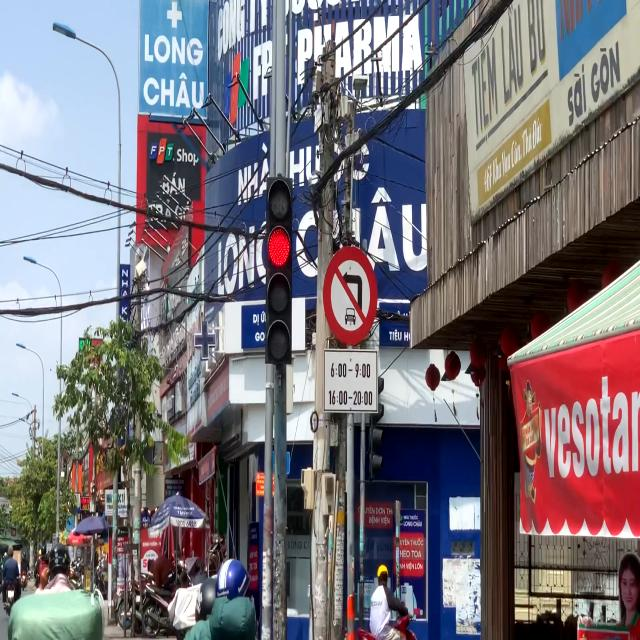P.103c: (324, 246, 378, 344)
